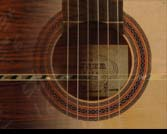guitar: (1, 1, 166, 130)
